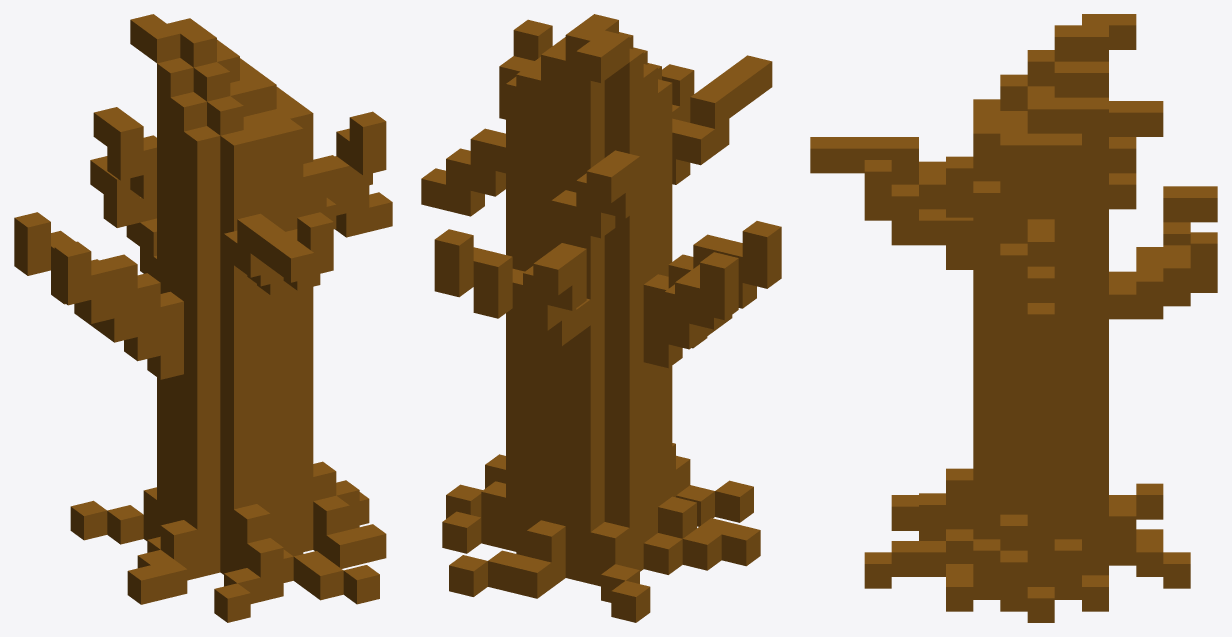
File: Tree_NoLeaves.obj
3 views of the same model, side by side, from view 1: azimuth 30°, elevation 25°; view 2: azimuth 150°, elevation 25°; view 3: azimuth 270°, elevation 25° (orthographic). The views are drawn at different scales.
Bounding box in the file's own units: 14 × 21 × 15.
Materials: 1 (1 with a texture image).
